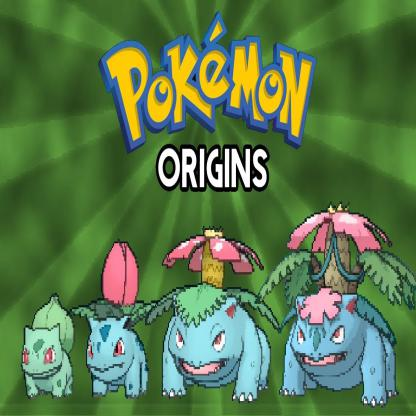Venusaur: (272, 206, 416, 416)
